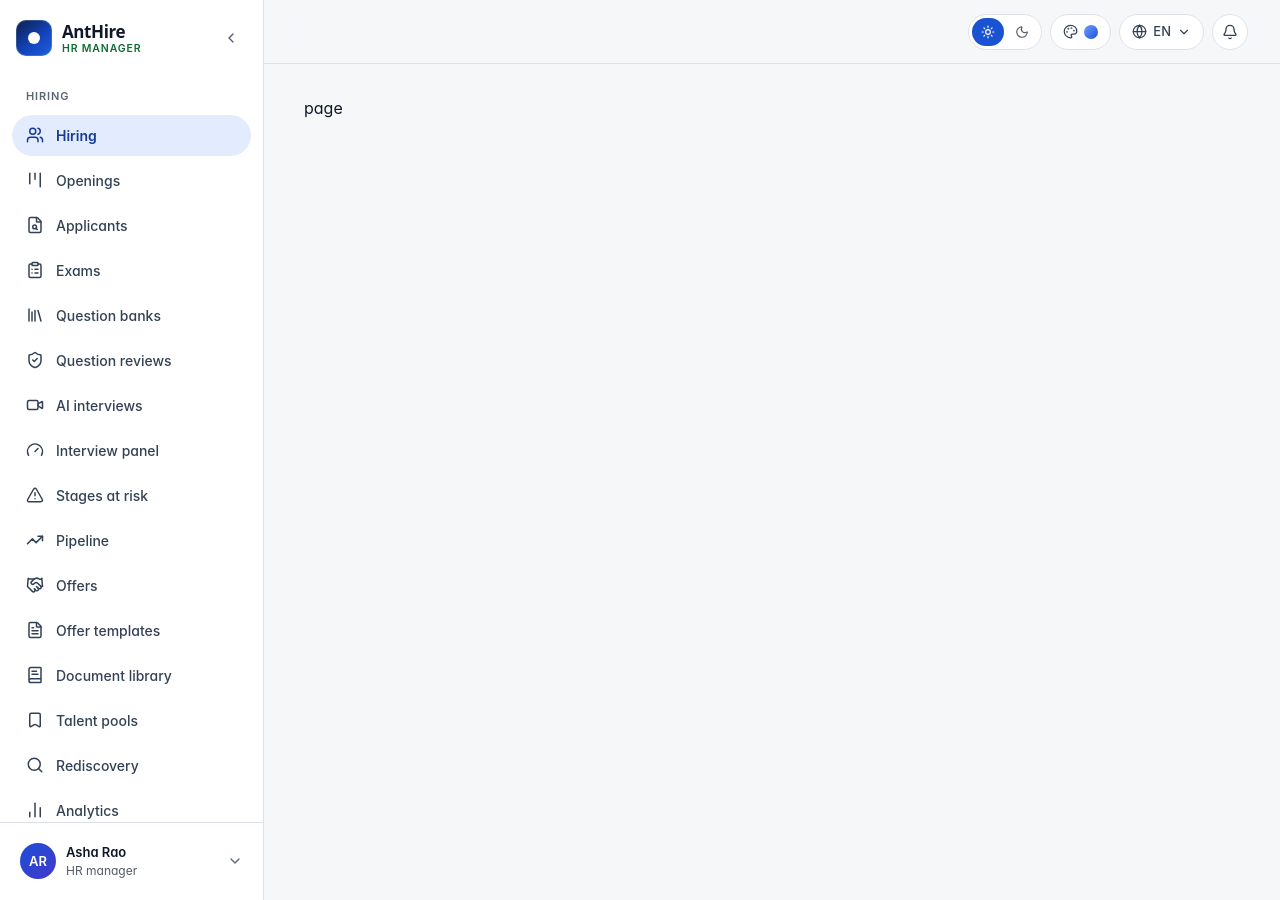
Test: AppShell - language switcher scope (QA ANTHIRE-012) › tells staff the console stays in English
Click the button with aria-label "UI language".
click(1162, 32)  # box [1119,14,1204,50]
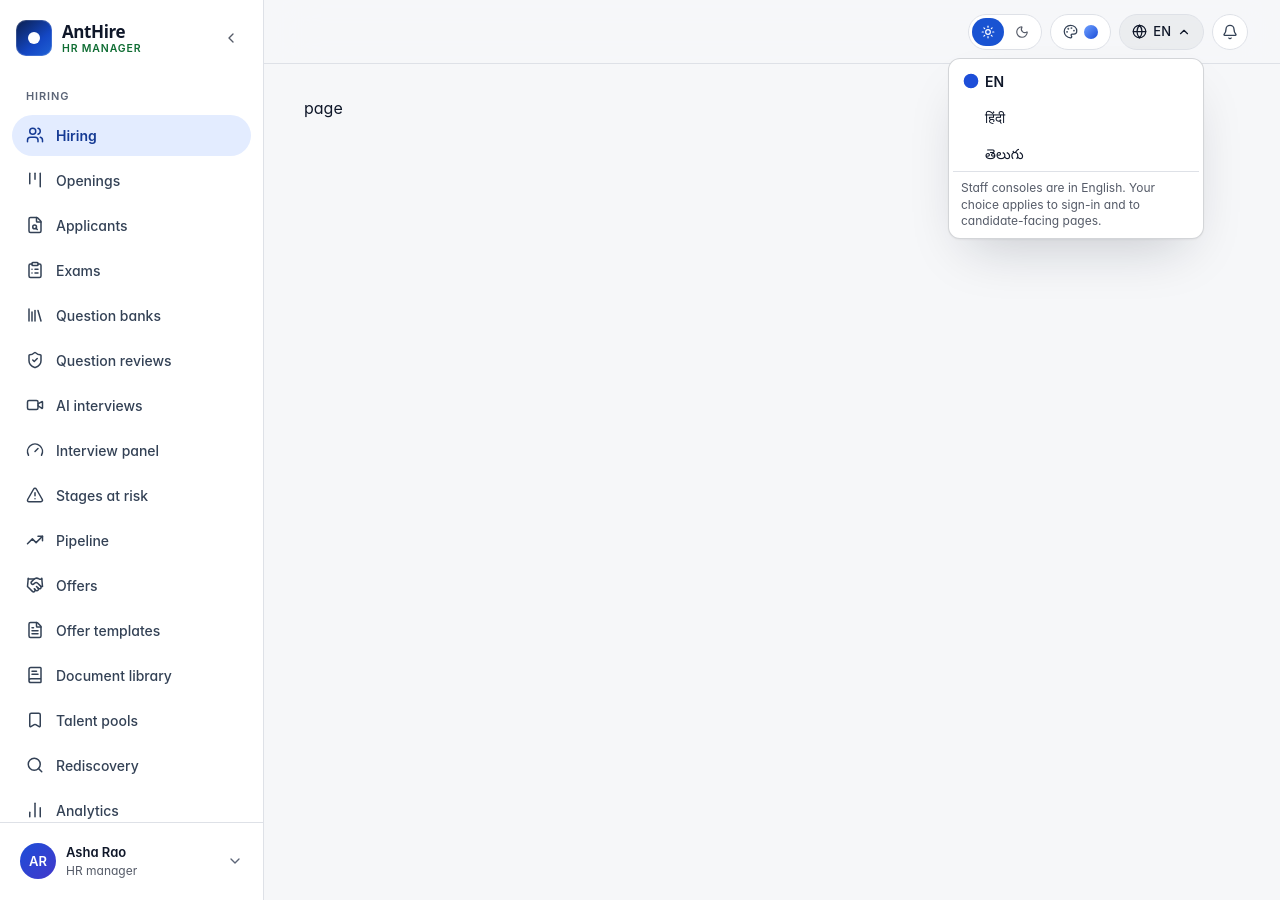
Expected: the text "Staff consoles are in English" is shown, [961,180,1155,228]
